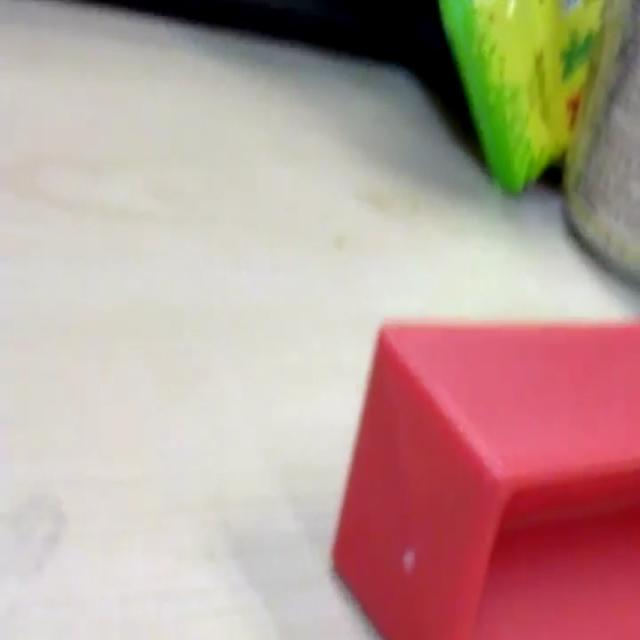red_block: (330, 313, 639, 636)
